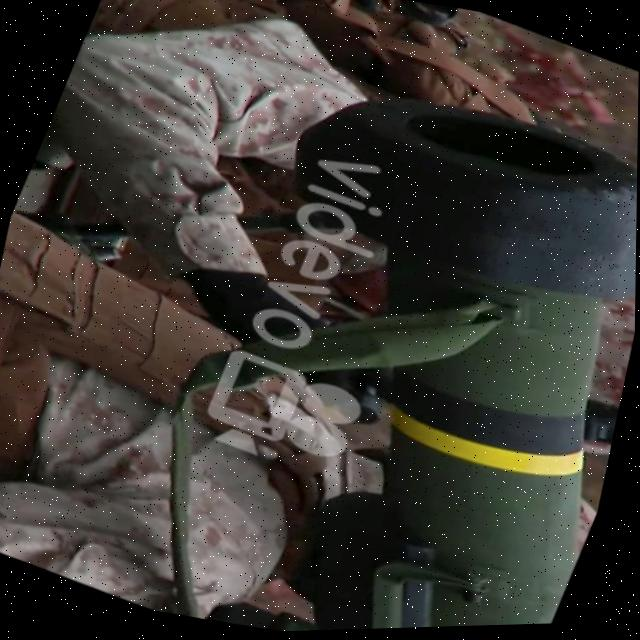rocket: (123, 27, 640, 637)
